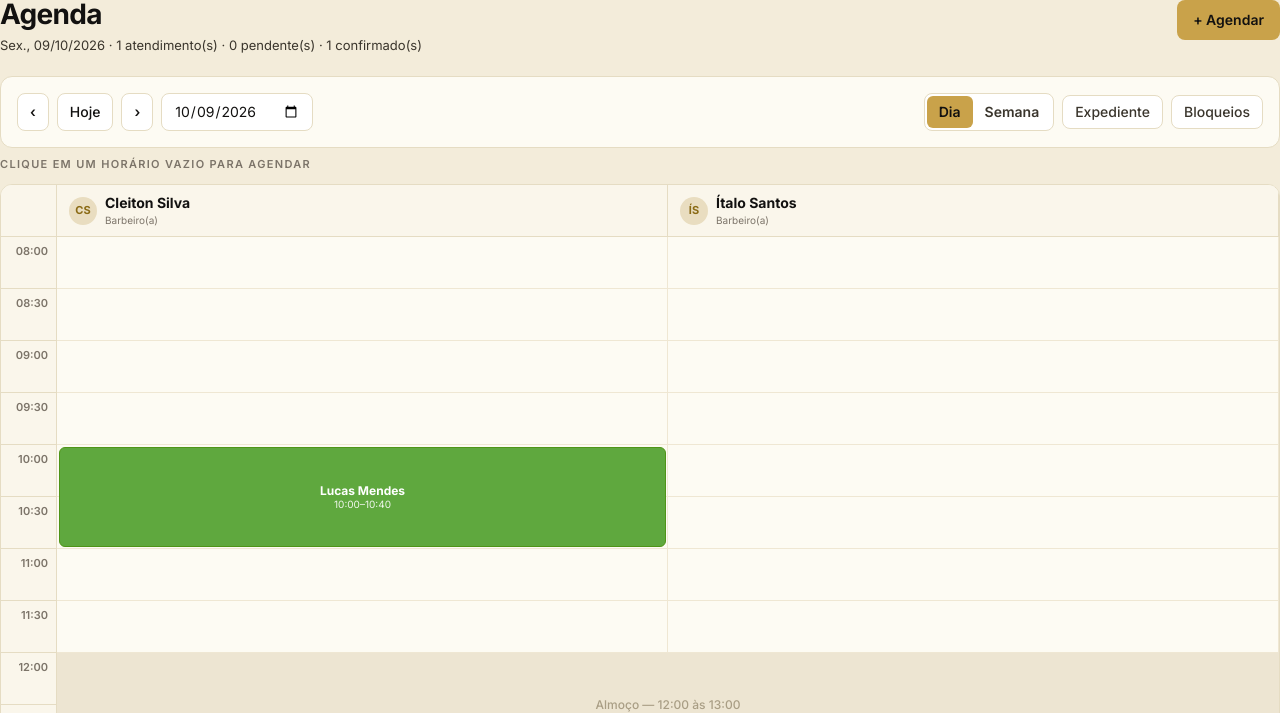
Test: Agenda — visão dia › agendamento aparece na grade e detalhe mostra status e ações
Click the text "Lucas Mendes" at (362, 491), box x1=320 y1=483 x2=405 y2=498
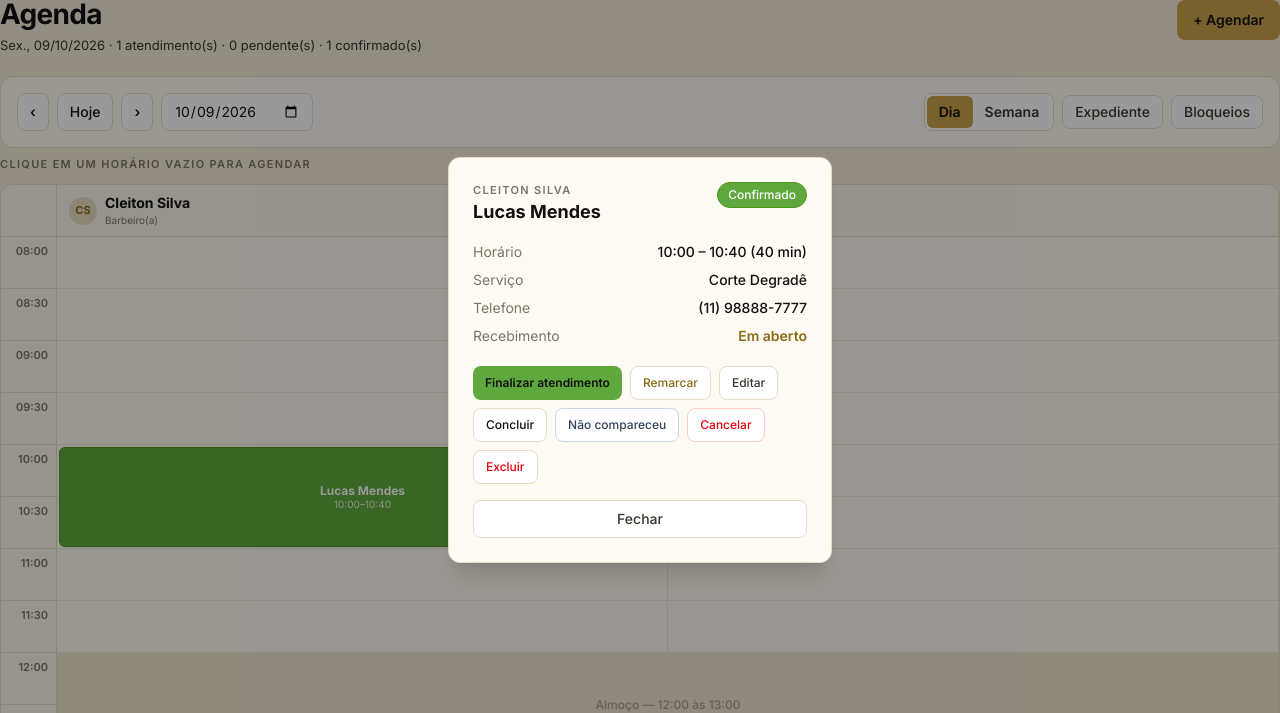
Check: the text "Confirmado" is shown, box x1=717 y1=182 x2=807 y2=208
Check: the button "Remarcar" is shown, box x1=630 y1=366 x2=711 y2=400
Check: the button "Finalizar atendimento" is shown, box x1=473 y1=366 x2=622 y2=400
